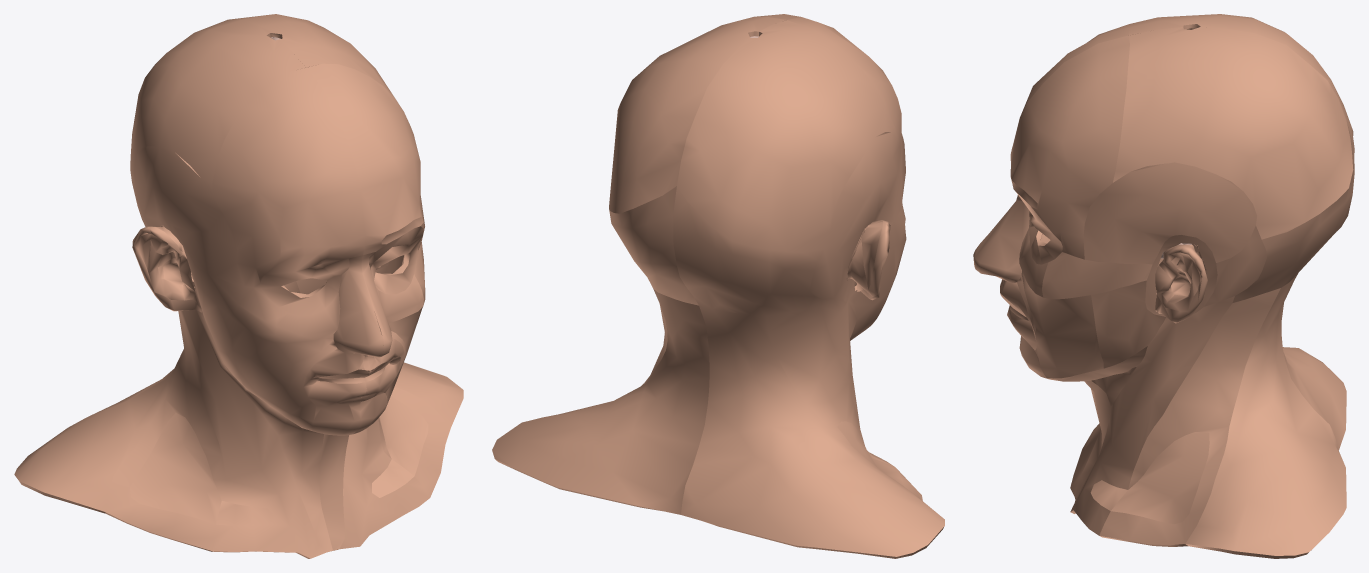
File: brain_organ_v1.glb
3 views of the same model, side by side, from view 1: azimuth 30°, elevation 25°; view 2: azimuth 150°, elevation 25°; view 3: azimuth 270°, elevation 25° (orthographic).
Parts seen in each view (by area): view 1: regions.head_neck_surface; view 2: regions.head_neck_surface; view 3: regions.head_neck_surface.
Boxes of the visible parts, bbox=[...] form: regions.head_neck_surface: bbox=[14, 14, 463, 558]; regions.head_neck_surface: bbox=[492, 14, 944, 558]; regions.head_neck_surface: bbox=[973, 14, 1354, 558].
Bounding box in the file's own units: 0.2905 × 0.3079 × 0.2237.
